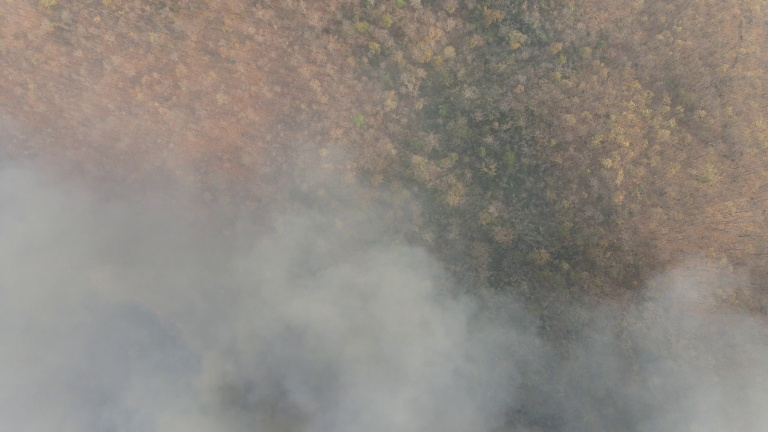smoke: (1, 176, 517, 432), (626, 259, 768, 432)
